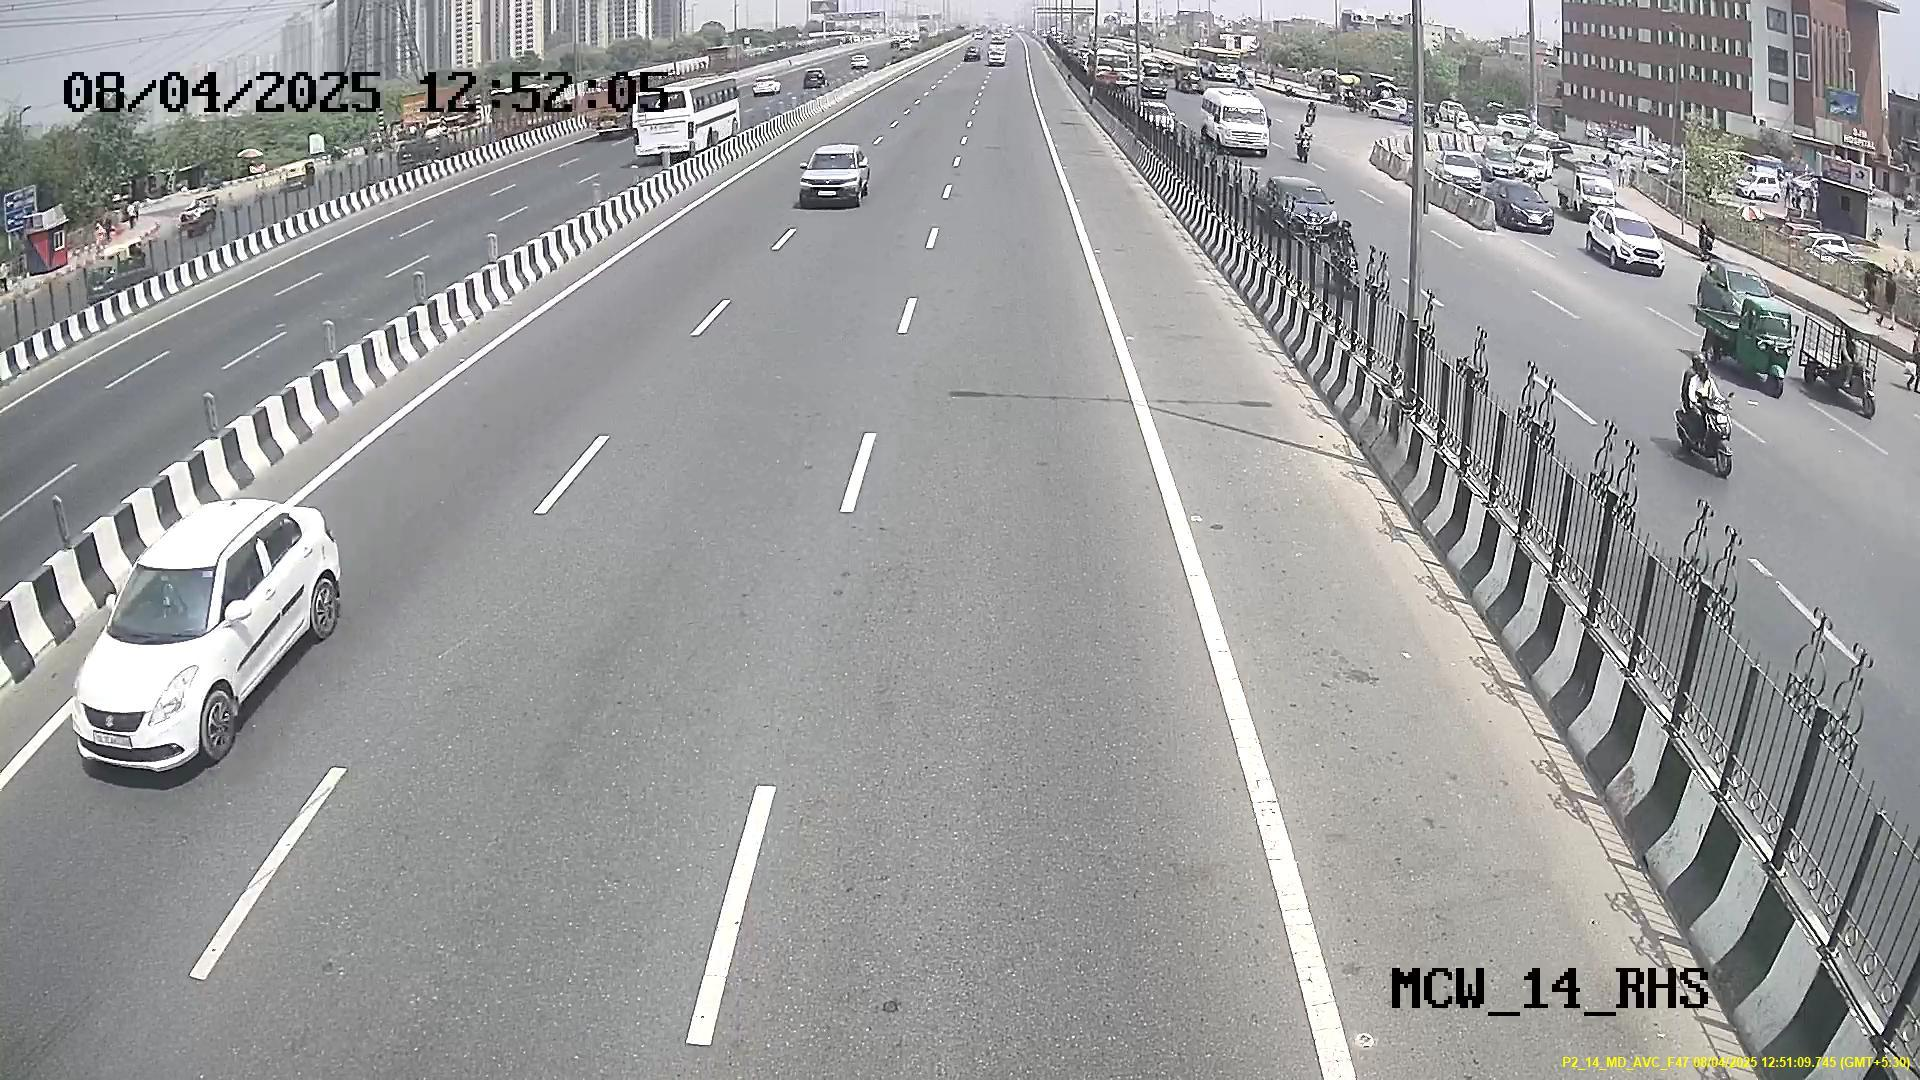car: (74, 525, 269, 773), (795, 142, 872, 210)
